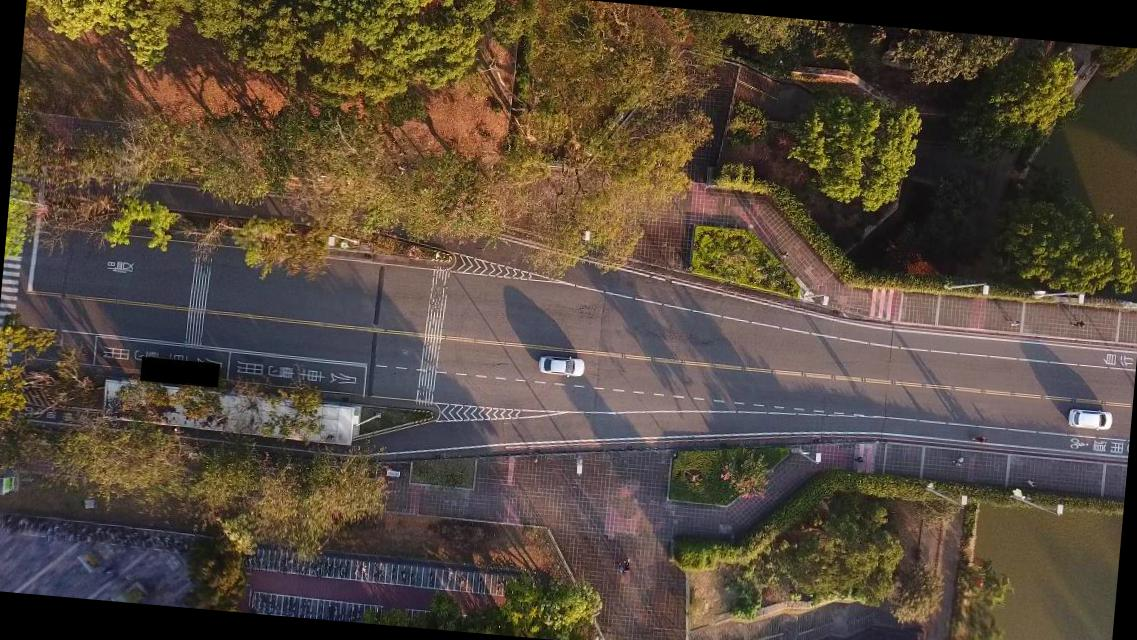vehicle: (536, 354, 585, 378), (1066, 408, 1112, 432)
